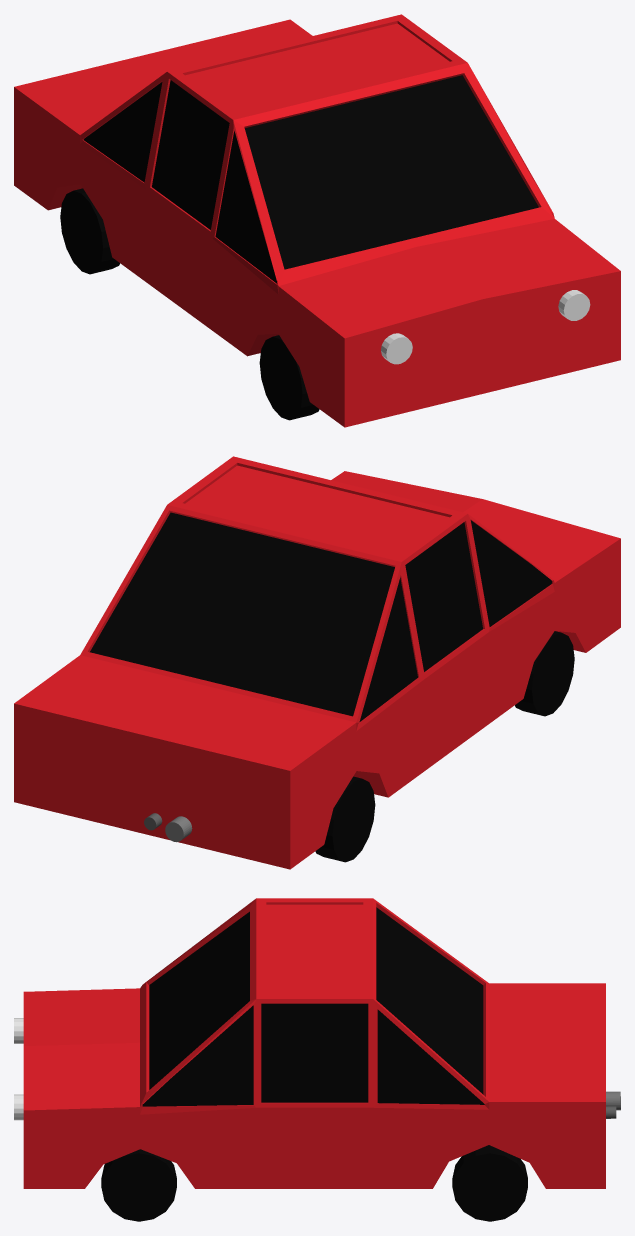
Rendered from CarRedStage1.fbx.
The picture shows the model from 3 angles, top to bottom: view 1: azimuth 30°, elevation 25°; view 2: azimuth 150°, elevation 25°; view 3: azimuth 270°, elevation 25°; orthographic projection. The views are drawn at different scales.
Visible parts, largest first — view 1: Car, wheels, Headlights; view 2: Car, wheels; view 3: Car, wheels, Headlights.
Part boxes in pixels (x1,y1,x2,y2): Car: (14, 14, 620, 427); wheels: (60, 188, 319, 420); Headlights: (381, 290, 590, 364); Car: (14, 456, 620, 869); wheels: (315, 631, 574, 862); Car: (23, 898, 605, 1188); wheels: (101, 1145, 527, 1221); Headlights: (14, 1018, 23, 1120).
Size of the model in its own units: 493 by 415 by 1063.
